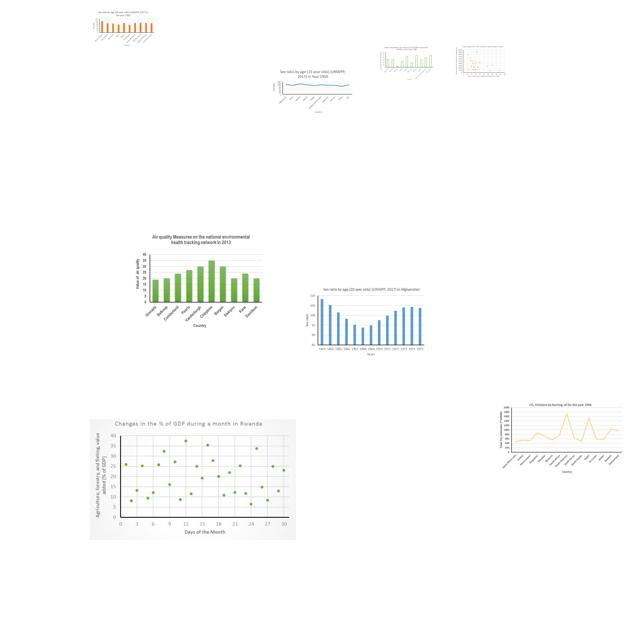Graph: (90, 419, 296, 540), (132, 232, 268, 329), (302, 285, 426, 358), (498, 402, 623, 474), (272, 68, 354, 115), (91, 10, 155, 47), (379, 46, 434, 81), (455, 44, 506, 78)
